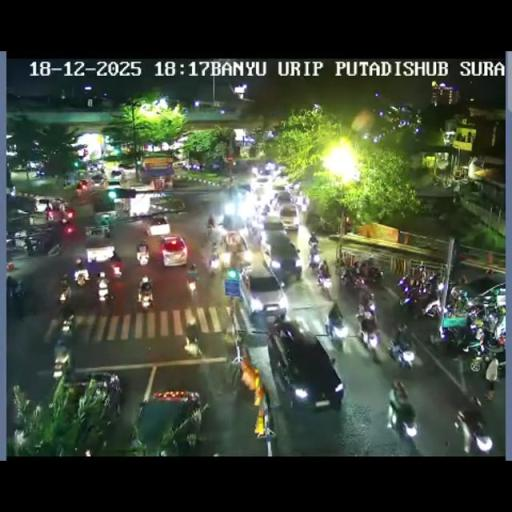Car: (267, 321, 343, 409), (133, 389, 205, 453), (238, 268, 288, 326), (59, 373, 122, 417), (262, 232, 300, 282), (52, 320, 75, 378), (273, 191, 298, 228), (160, 236, 188, 266), (222, 208, 250, 234), (148, 196, 185, 214), (146, 216, 170, 236), (34, 197, 56, 213), (252, 175, 272, 192), (90, 172, 108, 186), (108, 170, 122, 184)
Motorcycle: (398, 273, 440, 317), (454, 406, 492, 453), (439, 318, 480, 360), (388, 392, 419, 442), (475, 323, 504, 365), (74, 418, 104, 454), (357, 313, 381, 355), (387, 334, 415, 370), (226, 350, 246, 392), (326, 302, 346, 340), (342, 266, 368, 294), (185, 318, 203, 354), (464, 302, 486, 324), (448, 285, 470, 306), (24, 235, 45, 255), (316, 264, 332, 290), (138, 284, 154, 310), (186, 273, 200, 302), (6, 276, 24, 298), (60, 298, 74, 326), (58, 277, 72, 303), (74, 258, 88, 284), (108, 248, 122, 274), (364, 264, 383, 283), (362, 292, 376, 316), (237, 254, 252, 276), (96, 280, 110, 303), (293, 192, 309, 212), (207, 250, 220, 274), (247, 220, 262, 239), (136, 246, 150, 266), (308, 248, 321, 269), (218, 250, 232, 268), (287, 181, 302, 195), (418, 264, 428, 284), (64, 220, 76, 236), (308, 236, 318, 250), (458, 272, 468, 286), (140, 274, 150, 288), (260, 204, 270, 217), (101, 212, 110, 226), (221, 180, 230, 193), (206, 224, 214, 238), (436, 280, 446, 291), (353, 260, 360, 274), (104, 226, 110, 238)
